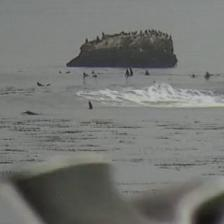surfer: (20, 110, 40, 115), (36, 82, 51, 87), (204, 72, 212, 80), (88, 100, 94, 110), (129, 67, 134, 77), (58, 70, 70, 74), (124, 68, 129, 76), (82, 72, 90, 77), (144, 70, 150, 76), (92, 71, 100, 75), (92, 74, 98, 78), (191, 74, 196, 78)
